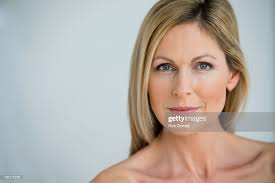white_female: (123, 31, 224, 134)
